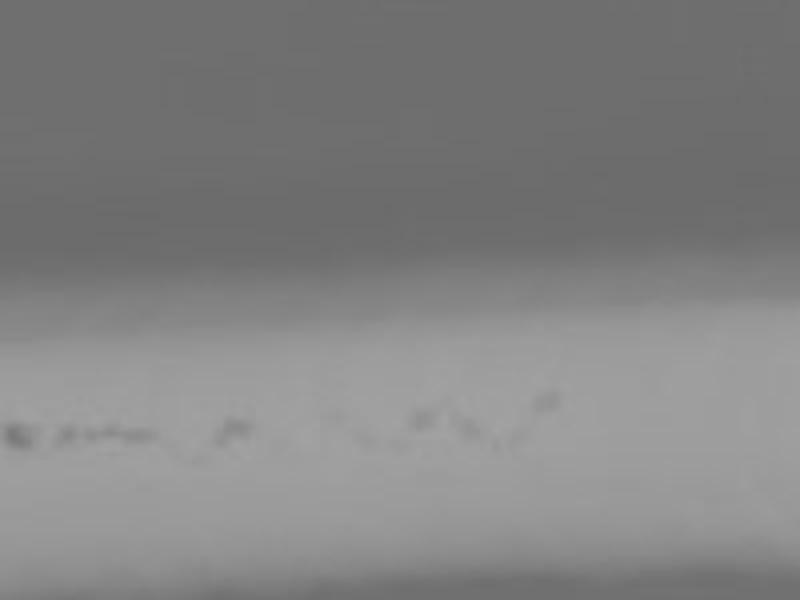defect: (213, 414, 253, 448), (449, 405, 480, 438), (532, 385, 564, 415), (5, 420, 32, 451), (115, 427, 156, 447), (409, 404, 436, 434), (54, 420, 78, 451), (349, 427, 375, 454), (385, 431, 410, 456), (96, 421, 115, 440), (485, 433, 500, 456), (81, 424, 97, 444)
